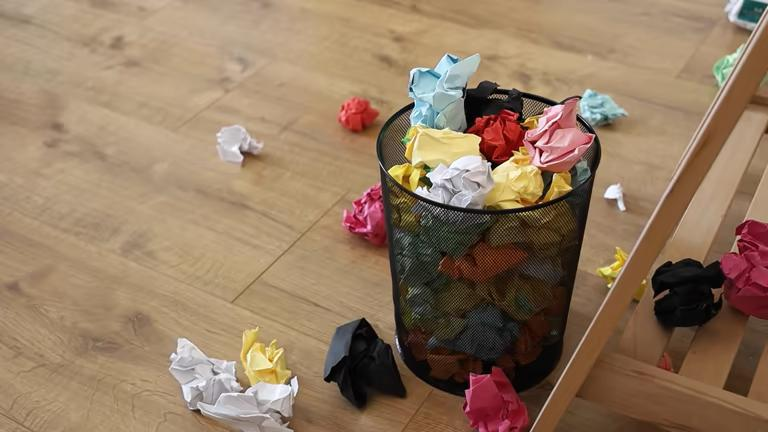trash: (376, 48, 594, 204), (320, 314, 410, 412), (188, 374, 310, 432), (456, 360, 533, 432), (720, 213, 768, 327), (173, 334, 240, 414), (646, 256, 726, 322), (341, 175, 402, 253), (236, 320, 294, 392), (206, 113, 271, 165), (572, 86, 634, 129), (709, 40, 755, 88), (597, 166, 636, 220), (332, 96, 382, 138), (598, 245, 630, 293)
trash_can_overflow: (353, 57, 644, 418)
